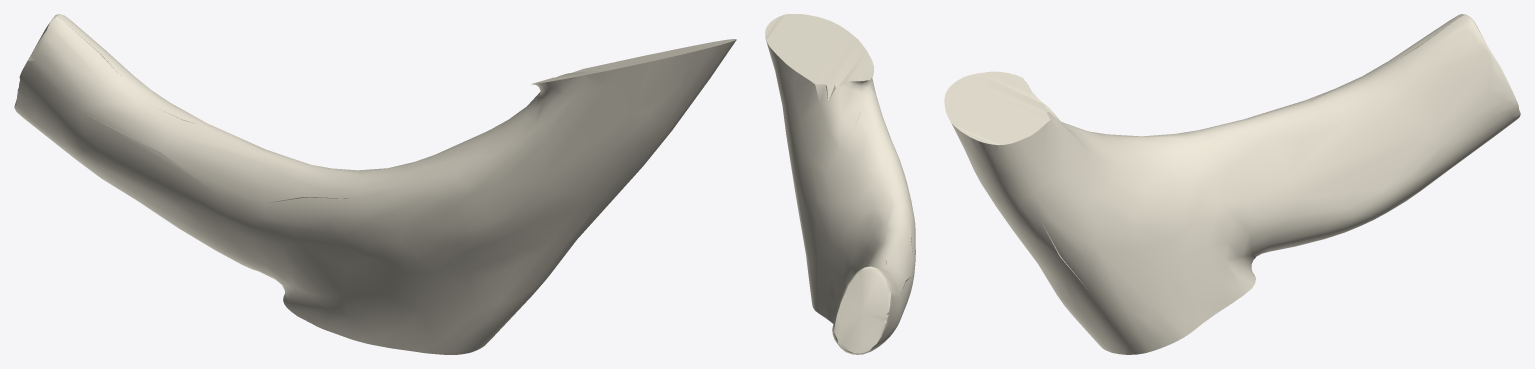
Rendered from fma8383_fj3669m.glb.
The picture shows the model from 3 angles, left to right: view 1: azimuth 30°, elevation 25°; view 2: azimuth 150°, elevation 25°; view 3: azimuth 270°, elevation 25°; orthographic projection. The views are drawn at different scales.
Parts seen in each view (by area): view 1: FMA8383_FJ3669M; view 2: FMA8383_FJ3669M; view 3: FMA8383_FJ3669M.
Boxes of the visible parts, x1,y1,x2,y2 form: FMA8383_FJ3669M: [14, 14, 736, 354]; FMA8383_FJ3669M: [765, 14, 915, 354]; FMA8383_FJ3669M: [944, 14, 1520, 354].
Bounding box in the file's own units: 0.0585 × 0.0409 × 0.07.
